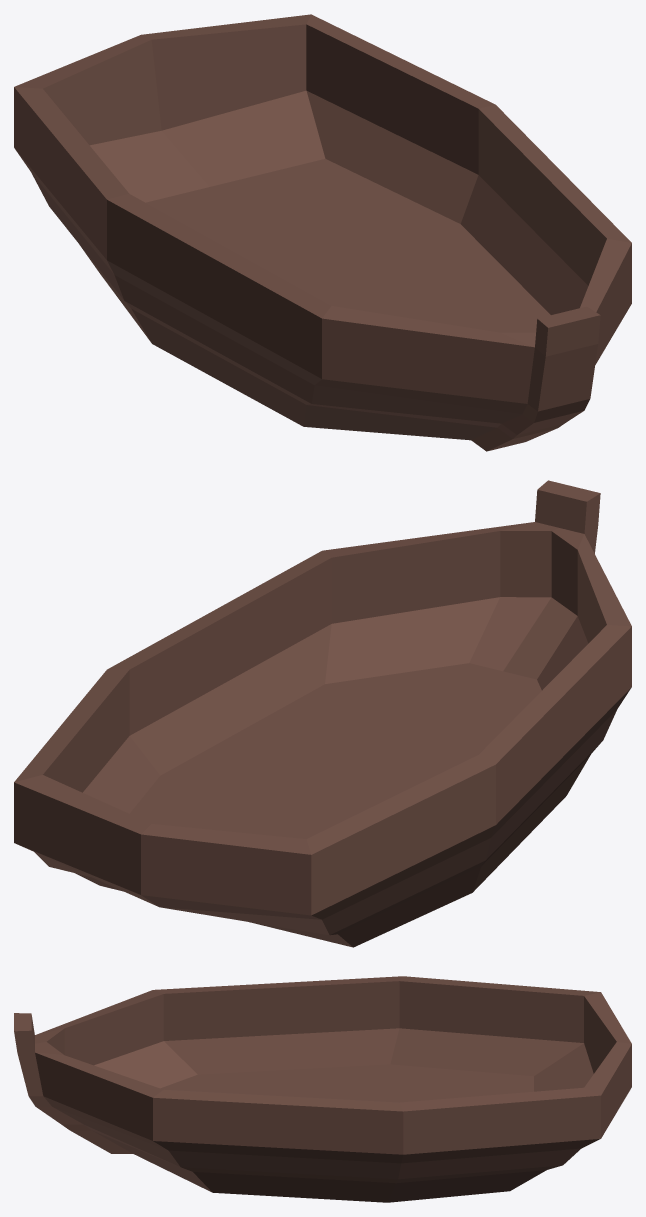
The model's file is Boat.glb.
The picture shows the model from 3 angles, top to bottom: view 1: azimuth 30°, elevation 25°; view 2: azimuth 150°, elevation 25°; view 3: azimuth 270°, elevation 25°; orthographic projection. The views are drawn at different scales.
Parts seen in each view (by area): view 1: Boat; view 2: Boat; view 3: Boat.
Boxes of the visible parts, <box> form: Boat: <box>14,14,631,451</box>; Boat: <box>14,480,631,947</box>; Boat: <box>14,976,631,1202</box>.
Size of the model in its own units: 1.03 by 0.4421 by 1.98.
